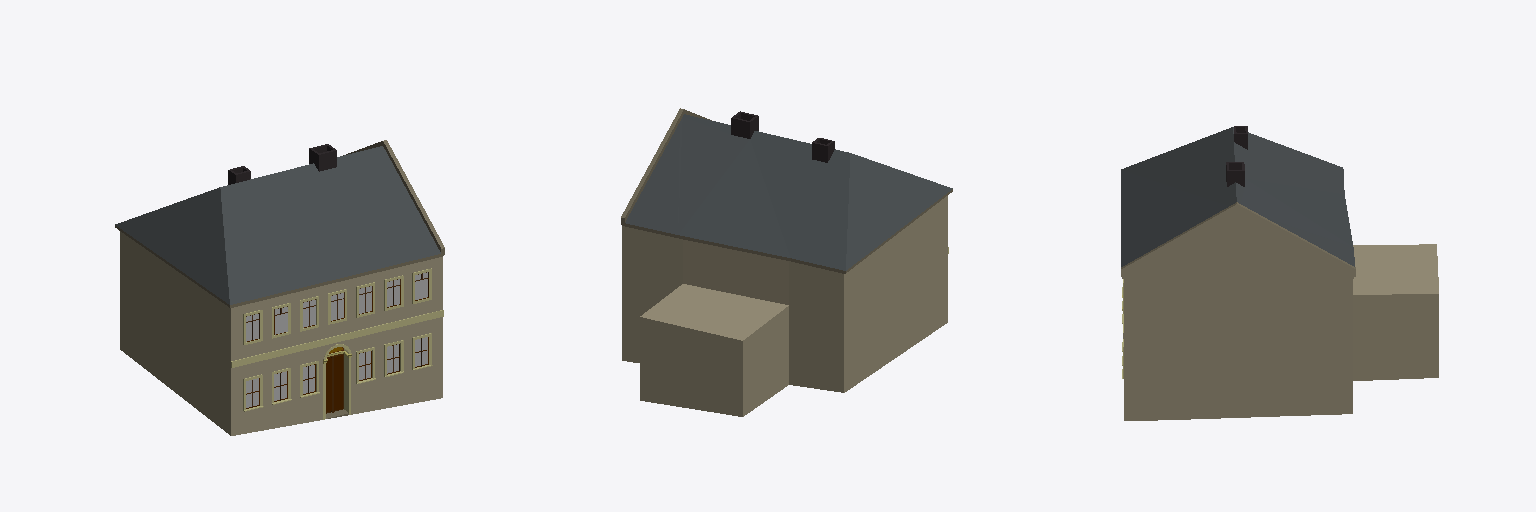
3 renders of one model, left to right at view 1: azimuth 30°, elevation 25°; view 2: azimuth 150°, elevation 25°; view 3: azimuth 270°, elevation 25°, orthographic.
Parts seen in each view (by area): view 1: Mesh01; view 2: Mesh01; view 3: Mesh01.
Part boxes in pixels (bbox=[...]): Mesh01: bbox=[115, 140, 444, 435]; Mesh01: bbox=[621, 108, 952, 416]; Mesh01: bbox=[1121, 126, 1438, 420].
Bounding box in the file's own units: 1.4 × 1.36 × 1.76.